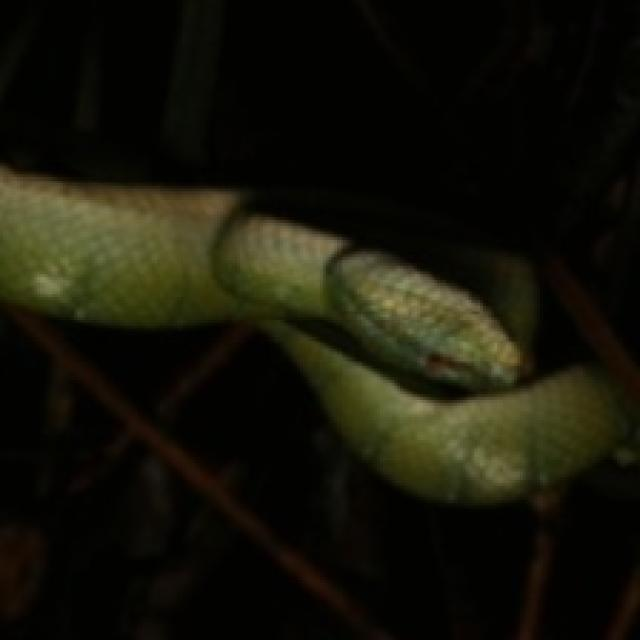north ph temple pitviper: (0, 166, 631, 500)
